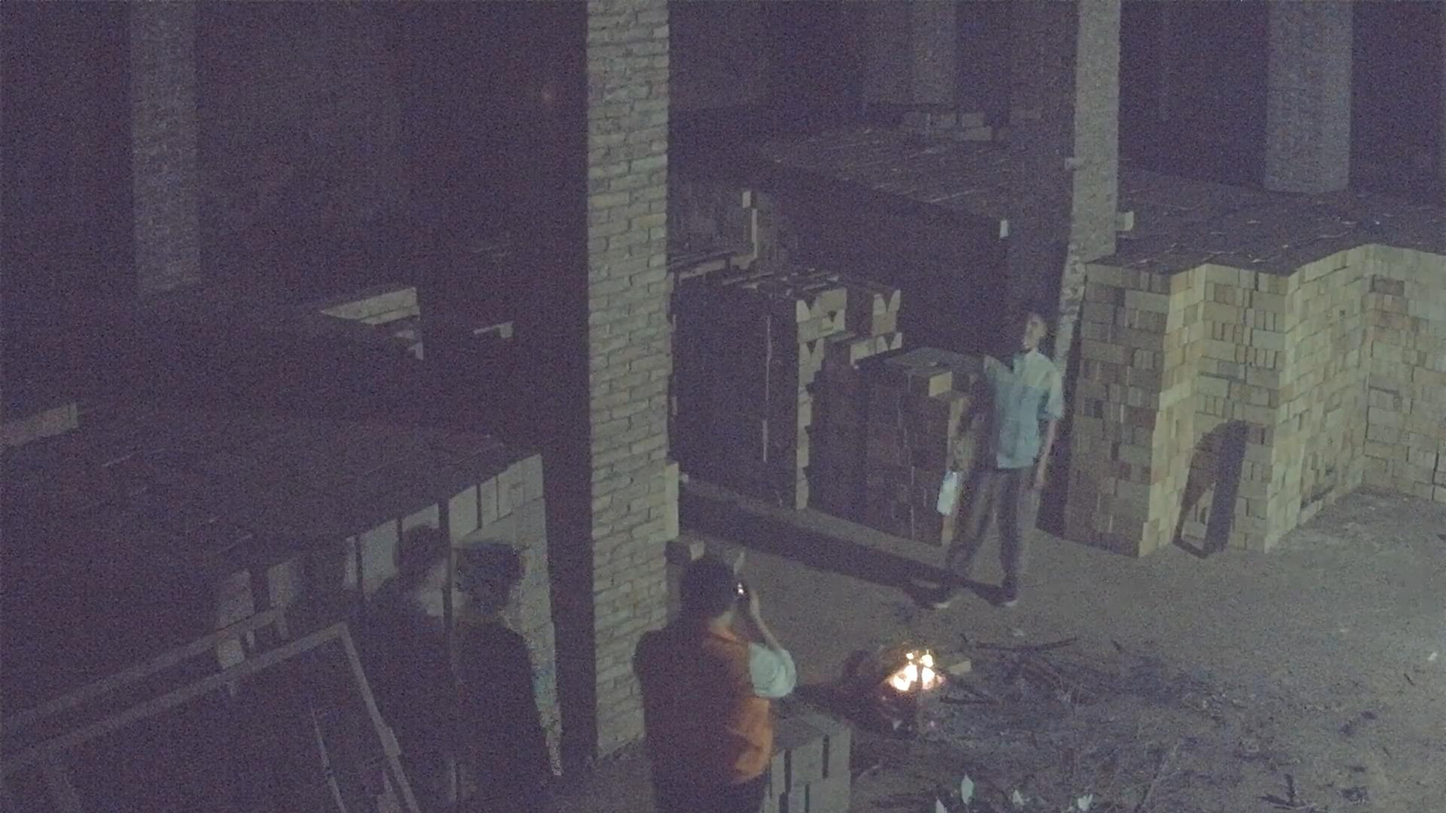fire: (886, 650, 944, 696)
